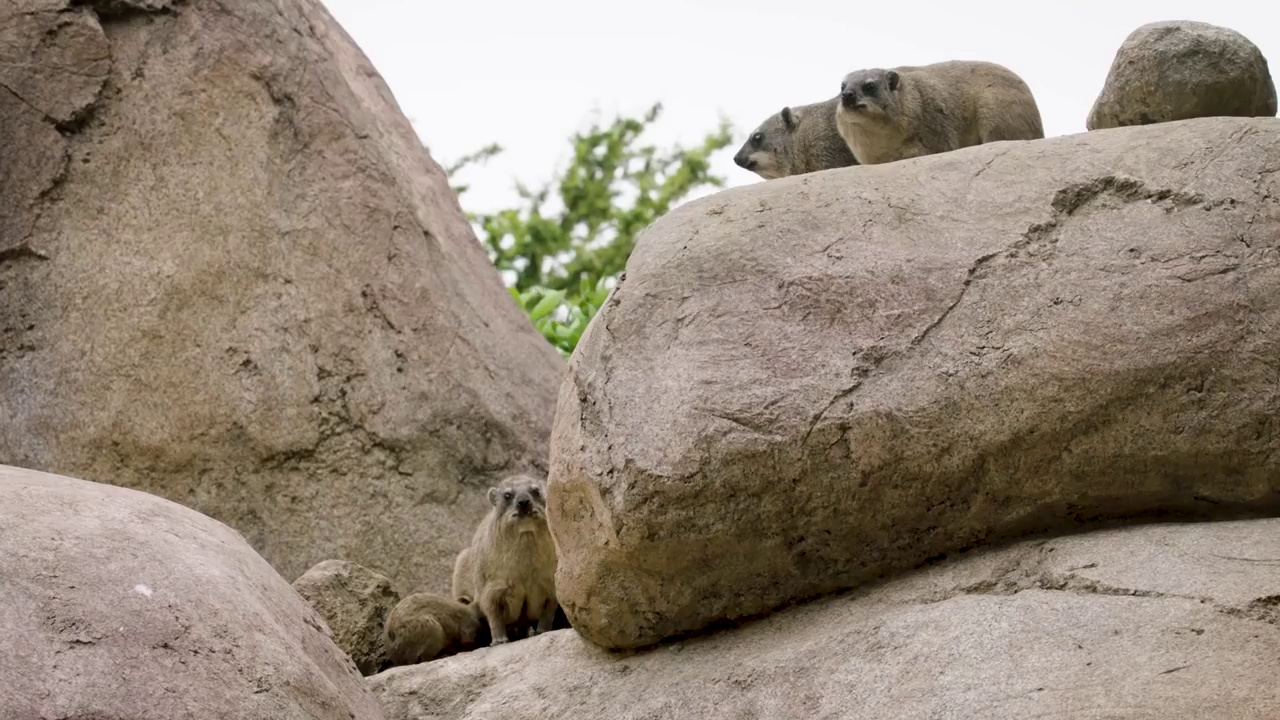Rock Hyrex: (839, 60, 1048, 165), (451, 473, 564, 651), (736, 95, 862, 182), (379, 589, 486, 670)
